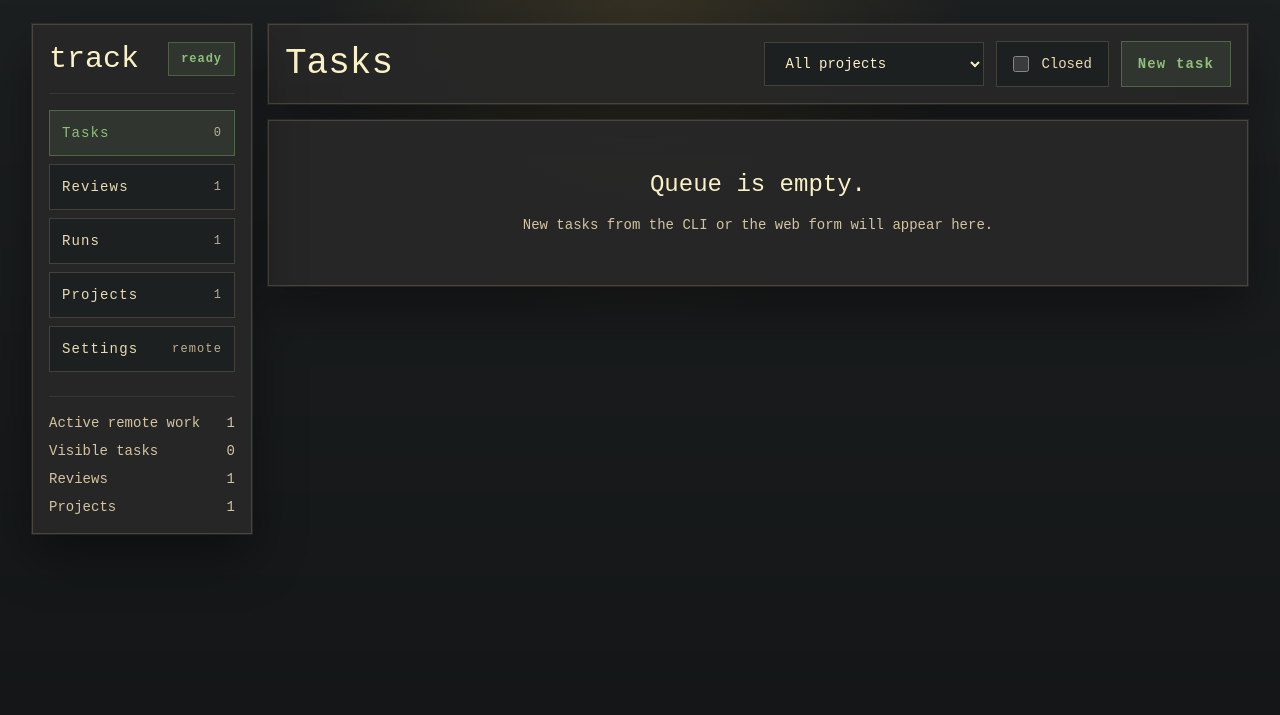
App shell › shows active PR reviews on the Runs page and in the Runs badge
Click the link with test id "shell-nav-runs" at [142, 241], box [49,218,235,264]
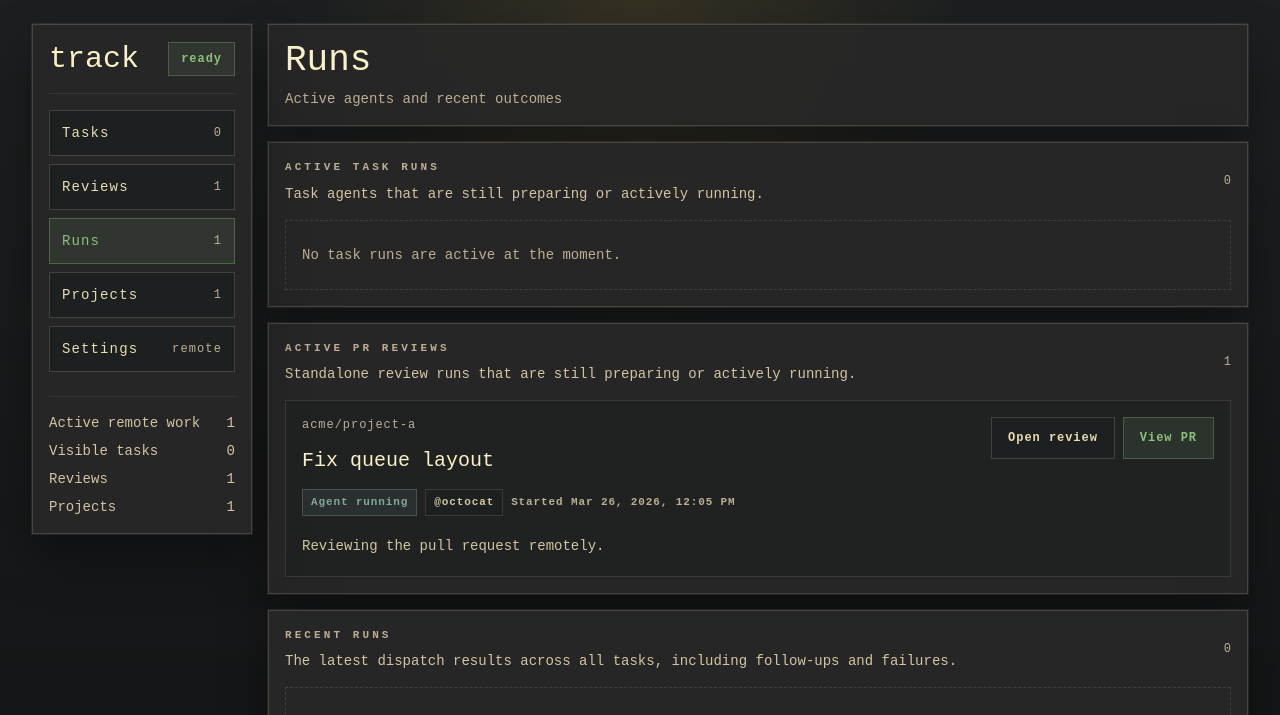
Expected: the text "Active PR reviews" is shown, [285,342,450,354]
Expected: the text "Fix queue layout" is shown, [302,449,494,472]
Expected: the text "Open review" is shown, [991,417,1115,459]
